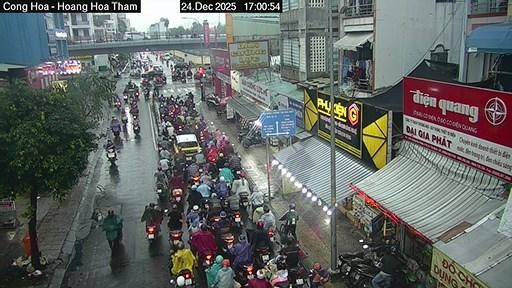motorbike: (336, 239, 387, 275), (169, 269, 194, 286), (234, 264, 253, 286), (288, 266, 307, 287), (243, 133, 265, 147), (255, 247, 268, 268), (170, 229, 182, 250), (201, 251, 214, 269), (170, 188, 182, 205), (230, 211, 242, 228), (156, 181, 166, 201), (146, 225, 157, 243), (236, 130, 249, 142), (106, 148, 115, 165), (240, 190, 248, 207), (205, 95, 217, 106), (188, 172, 198, 184), (266, 229, 274, 242), (112, 126, 120, 136), (114, 98, 120, 109), (121, 113, 127, 124), (176, 125, 182, 134), (133, 124, 138, 134), (144, 89, 149, 99), (122, 94, 127, 103), (186, 71, 192, 77), (181, 76, 185, 82)
